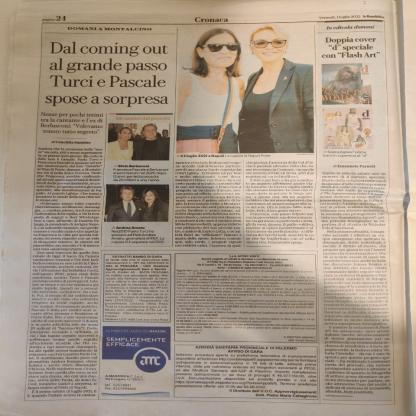immagine: (178, 26, 314, 154), (102, 326, 171, 400), (318, 108, 376, 162), (106, 183, 169, 224), (107, 123, 169, 163), (318, 64, 375, 106)
testo_col: (22, 143, 105, 402), (318, 168, 395, 399), (244, 160, 318, 254), (172, 160, 245, 250)
titolo: (40, 35, 173, 111), (317, 32, 383, 61)
